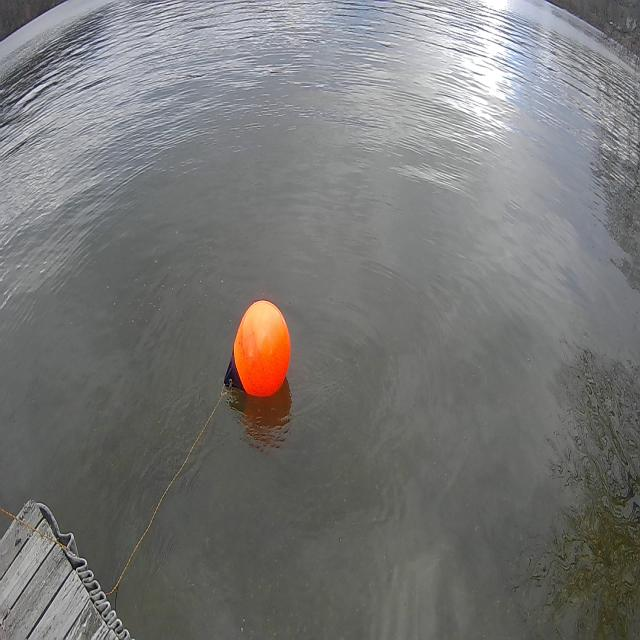Buoy: (232, 299, 292, 399)
